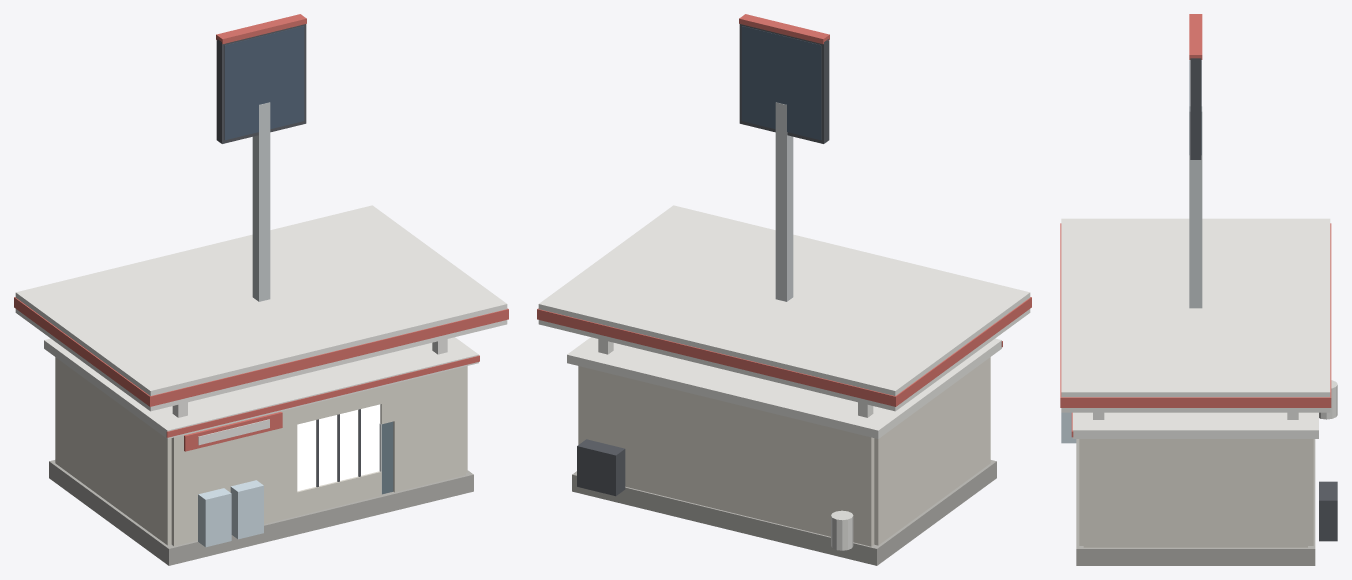
File: gas_station.glb
3 views of the same model, side by side, from view 1: azimuth 30°, elevation 25°; view 2: azimuth 150°, elevation 25°; view 3: azimuth 270°, elevation 25° (orthographic).
Parts seen in each view (by area): view 1: gs_shop_mesh, gs_canopy_mesh, gs_pole_mesh; view 2: gs_shop_mesh, gs_canopy_mesh, gs_pole_mesh; view 3: gs_canopy_mesh, gs_shop_mesh, gs_pole_mesh.
Boxes of the visible parts, x1,y1,x2,y2 form: gs_shop_mesh: (44, 337, 479, 565); gs_canopy_mesh: (14, 205, 508, 417); gs_pole_mesh: (216, 14, 306, 301); gs_shop_mesh: (567, 337, 1002, 565); gs_canopy_mesh: (537, 205, 1031, 417); gs_pole_mesh: (739, 14, 829, 301); gs_canopy_mesh: (1060, 218, 1331, 419); gs_shop_mesh: (1061, 380, 1337, 565); gs_pole_mesh: (1189, 14, 1202, 308).
Bounding box in the file's own units: 11.06 × 13.5 × 7.43.
